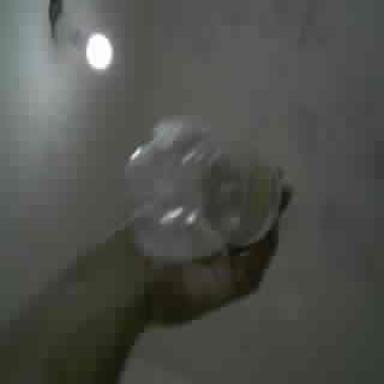bottle: (126, 118, 281, 261)
